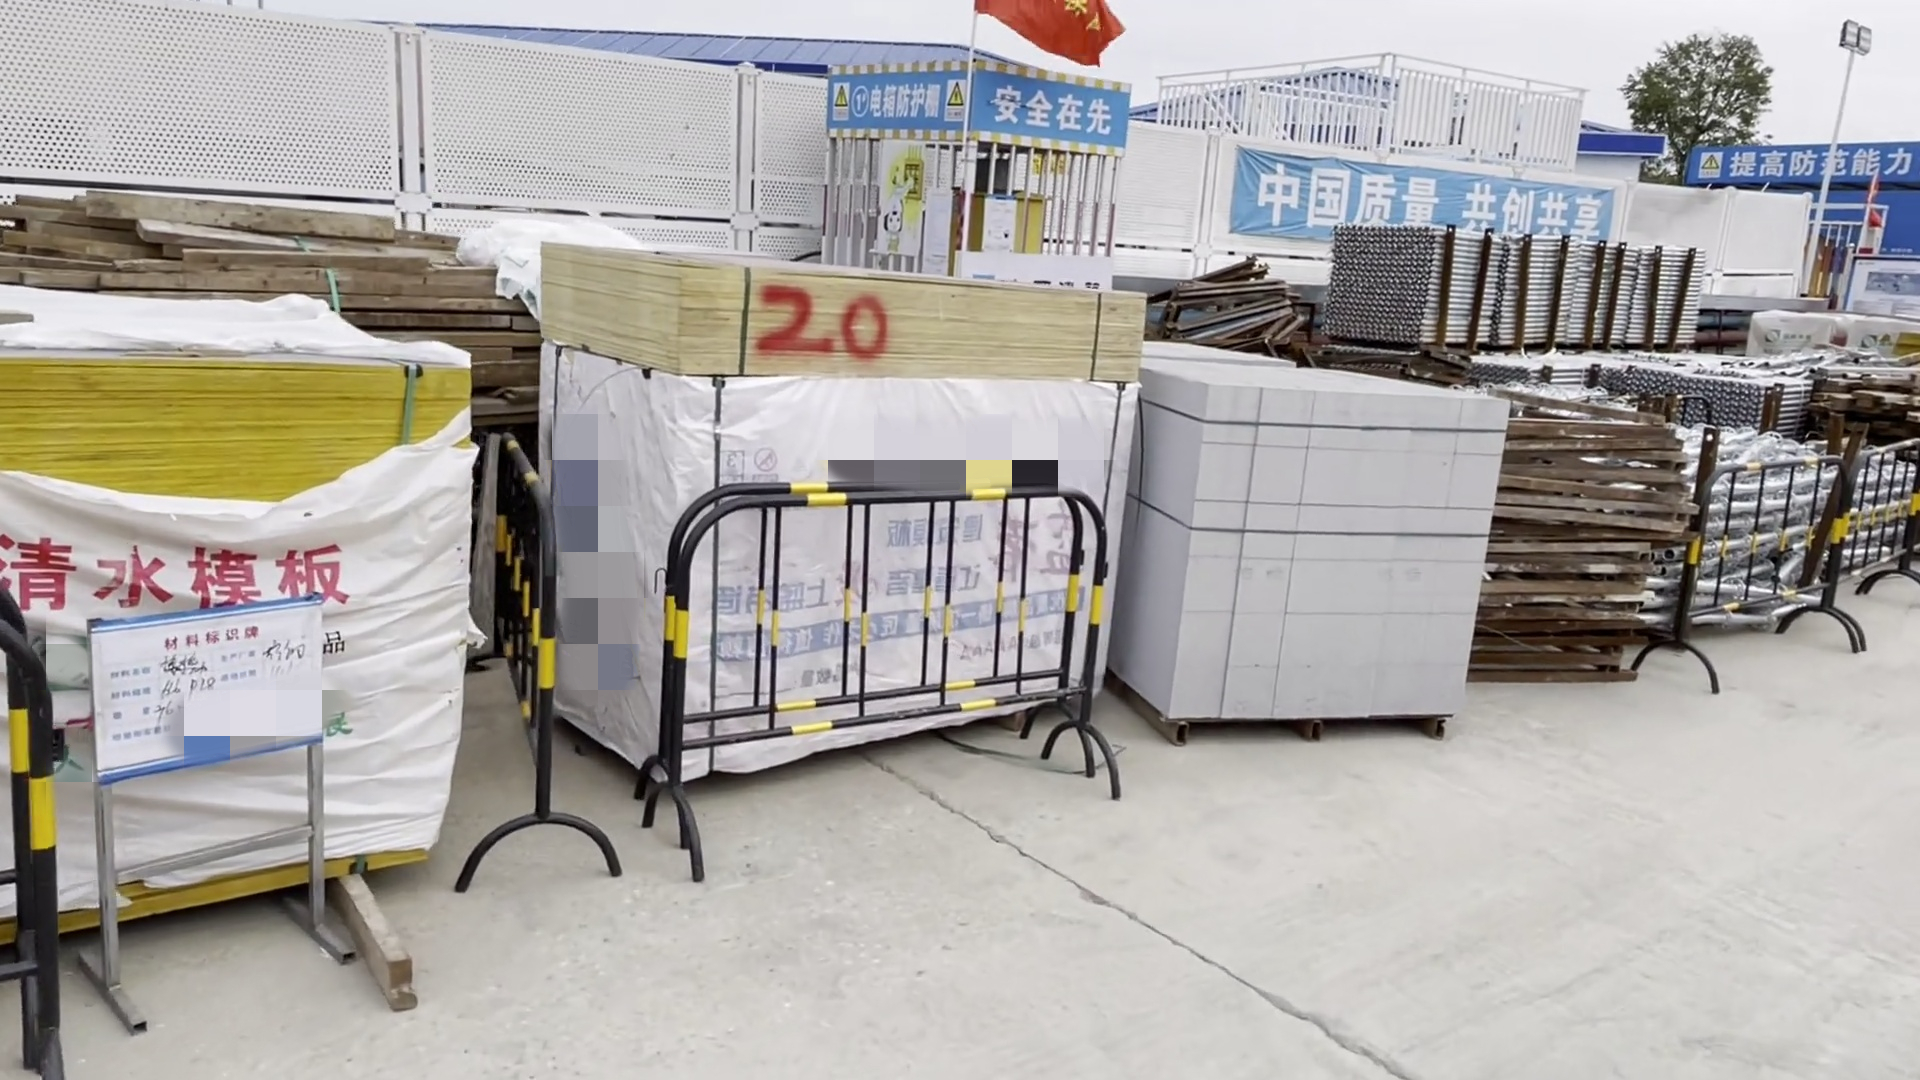brick: (1130, 340, 1505, 764)
scaffold: (1308, 225, 1698, 367)
slogan: (1230, 152, 1630, 280), (822, 65, 1124, 138), (1687, 144, 1920, 179)
wood: (4, 181, 521, 363)
